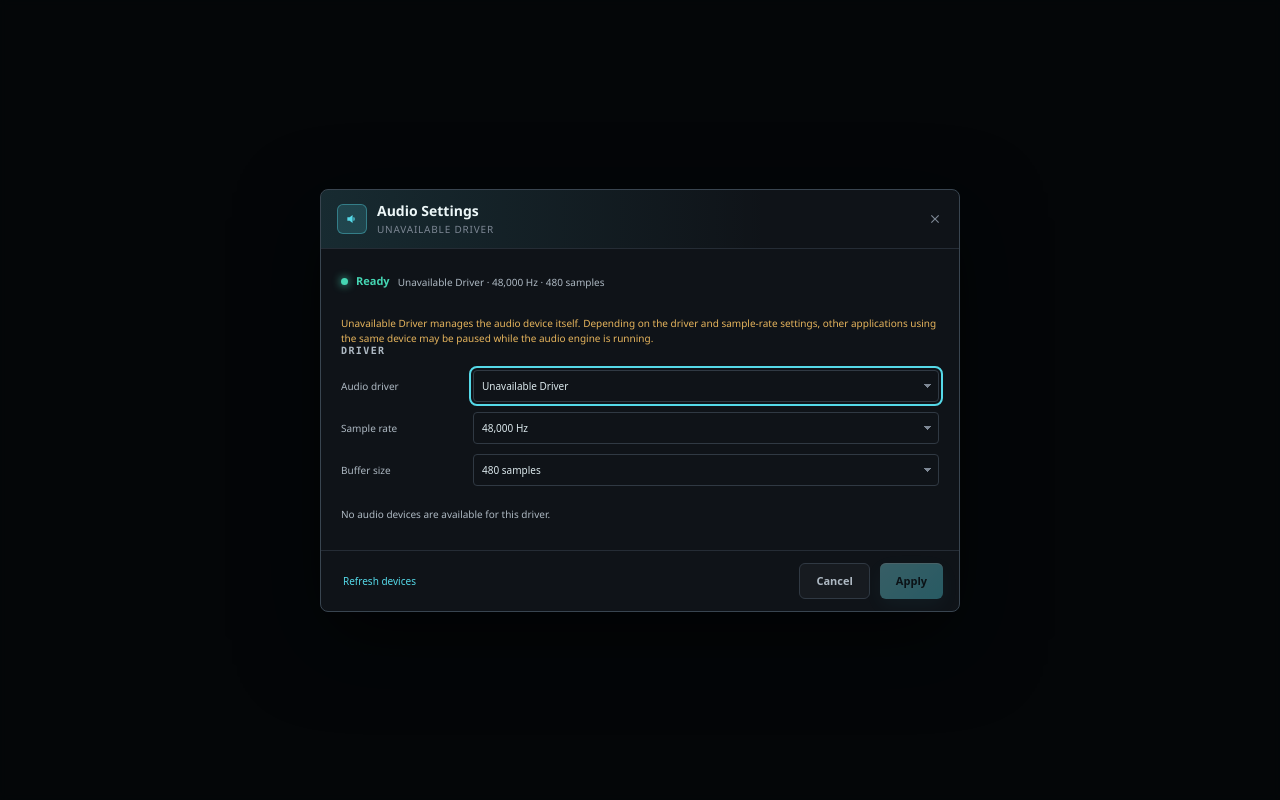
AudioSettingsDialog › keeps the driver selector available when the active driver has no devices
Expected: the text "No audio devices are available for this driver." is shown, [341,506,550,520]
Select "Windows Audio" in the dropdown labelled "Audio driver" at (706, 386), box [473,370,939,402]
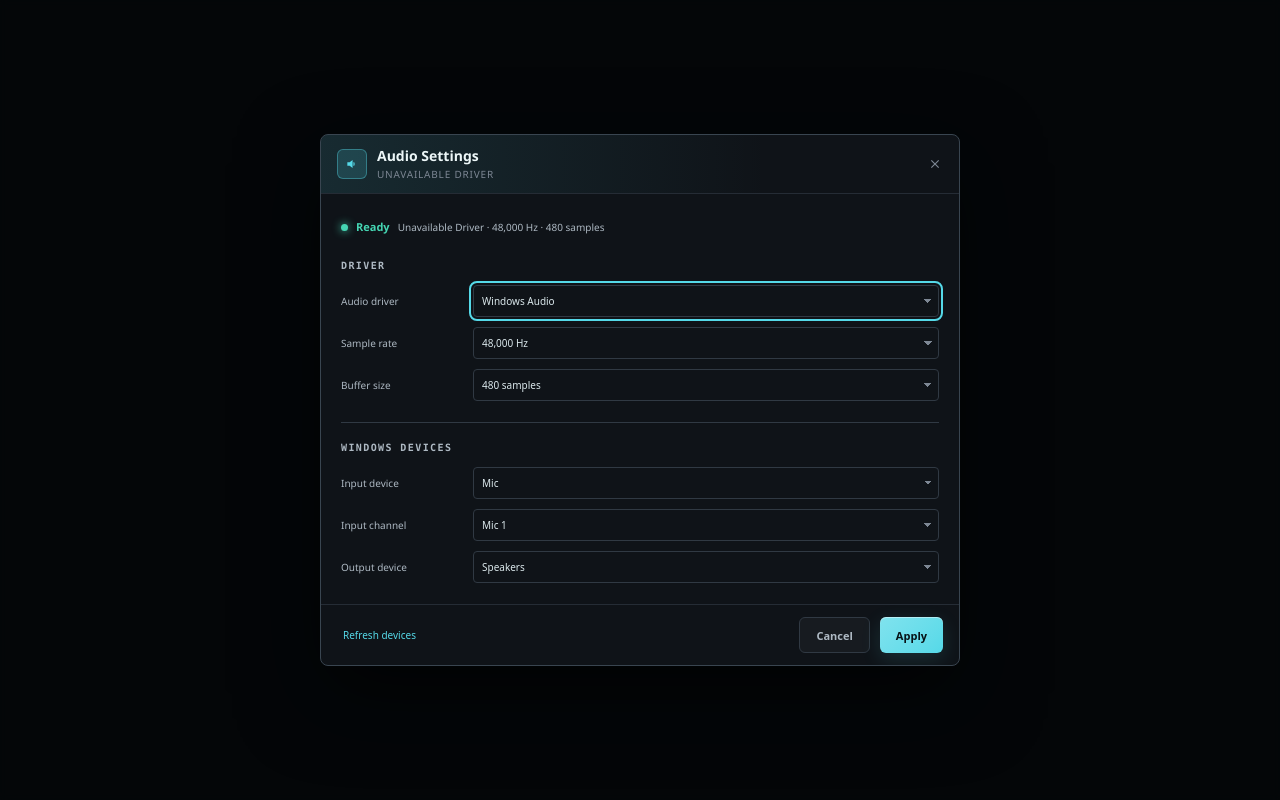
Result: the dropdown labelled "Input device" is shown at [473,467,939,499]
